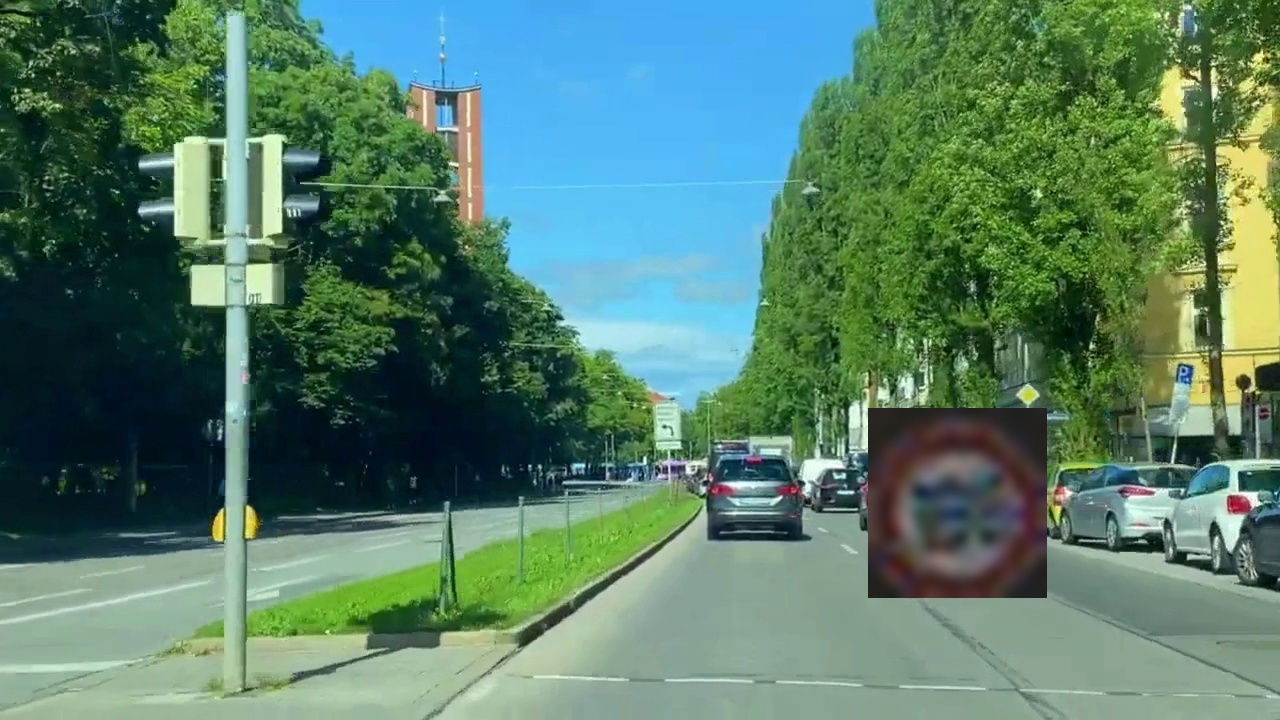Speed 100: (868, 408, 1047, 598)
